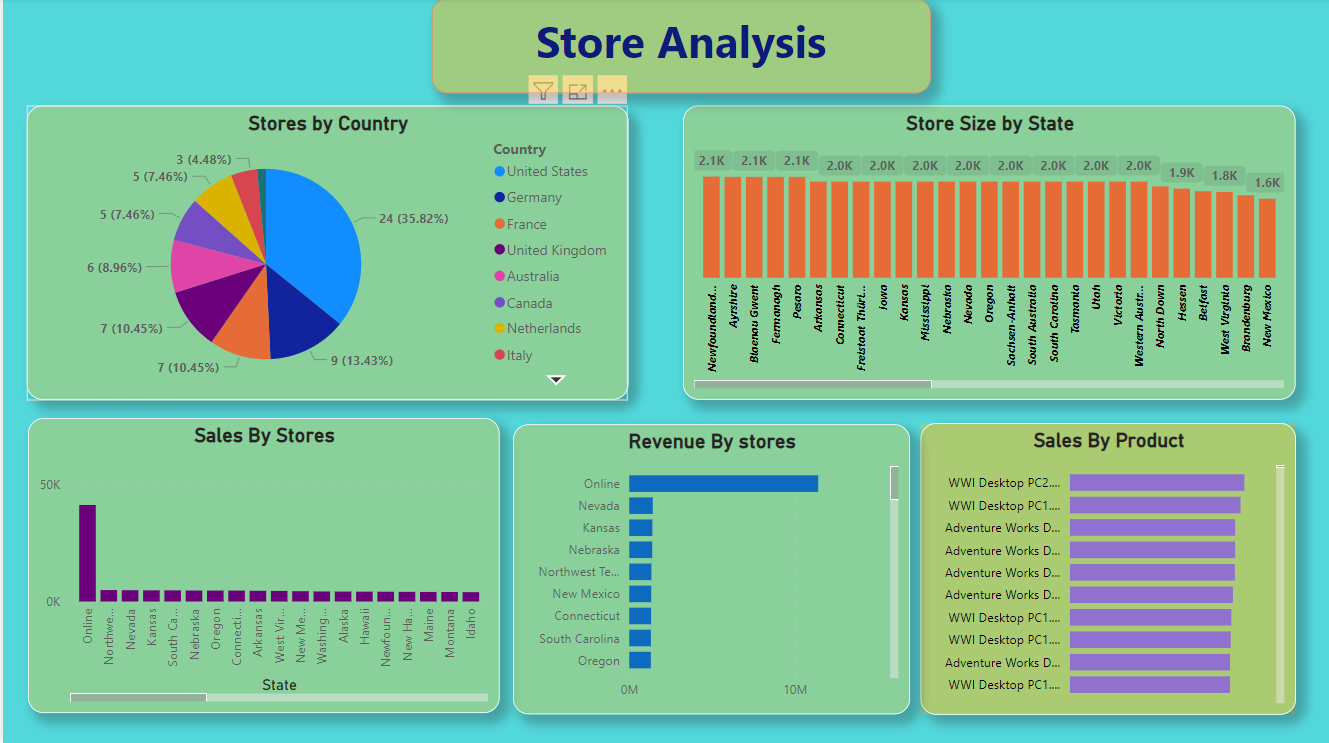

This screenshot's page, from the dashboard's own definition file:
{"tool":"powerbi","page":{"name":"Store Analysis","canvas":[1280,720],"ordinal":2},"visuals":[{"type":"clusteredColumnChart","title":"Sales By Stores","fields":{"Category":["stores.State"],"Y":["Sum(sales.Quantity)"]},"box":[23.9,405.6,454.9,284.7],"z":0},{"type":"pieChart","title":"Stores by Country","fields":{"Category":["stores.Country"],"Y":["CountNonNull(stores.StoreKey)"]},"box":[23.3,104.3,580.4,284],"z":1000},{"type":"clusteredColumnChart","title":"Store Size by State","fields":{"Category":["stores.State"],"Y":["Sum(stores.Square Meters)"]},"box":[655.9,104.3,591.4,284],"z":2000},{"type":"group","id":"g1","title":"Group 2","box":[885,409.9,362.3,281.3],"z":3000},{"type":"clusteredBarChart","title":"Sales By Product","fields":{"Category":["products.Product Name"],"Y":["Sum(sales.Quantity)"]},"box":[885,409.9,362.3,281.3],"z":4000,"group":"g1"},{"type":"clusteredBarChart","title":"Revenue By stores","fields":{"Category":["stores.State"],"Y":["sales.Total Revenue"]},"box":[492.6,411.7,382.8,279.9],"z":4000},{"type":"textbox","box":[414.4,0,481.6,91.9],"z":5000}]}

Visuals, with their boxes in screenshot pixels (x1, y1, x2, y2), scaled from the page's 1280x720 canvas onto the 1329x743 screenshot:
"Sales By Stores" clusteredColumnChart: (25, 419, 497, 712)
"Stores by Country" pieChart: (24, 108, 627, 401)
"Store Size by State" clusteredColumnChart: (681, 108, 1295, 401)
"Group 2" group: (919, 423, 1295, 713)
"Sales By Product" clusteredBarChart: (919, 423, 1295, 713)
"Revenue By stores" clusteredBarChart: (511, 425, 909, 714)
textbox: (430, 0, 930, 95)
